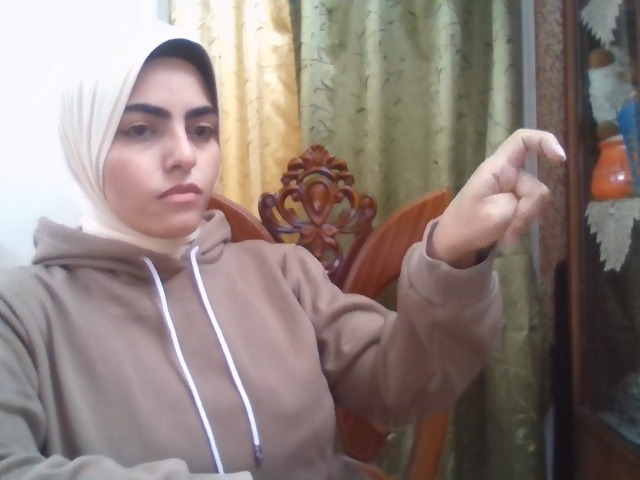X: (440, 128, 567, 256)
